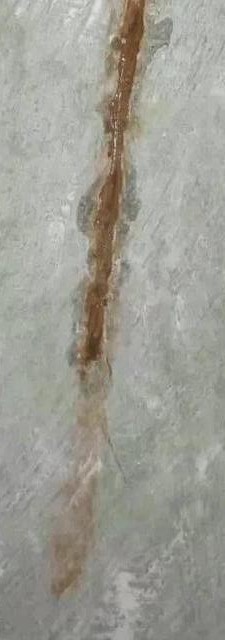Exposed reinforcement: (83, 1, 146, 363)
